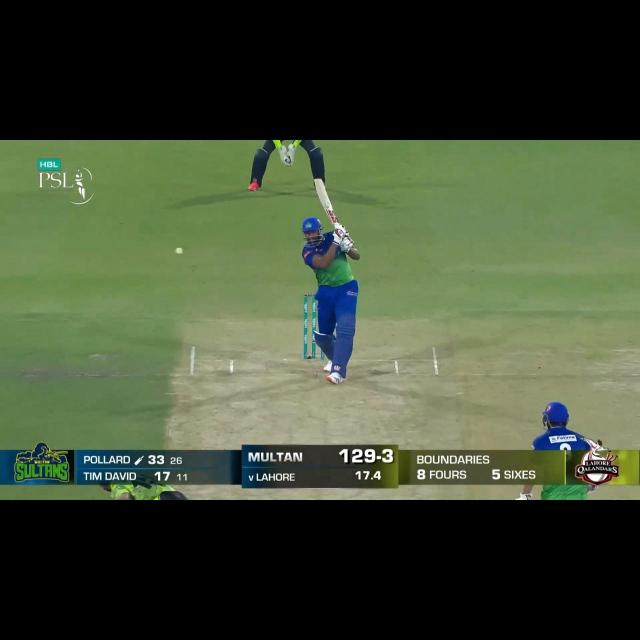bat: (312, 178, 341, 223)
toe: (312, 179, 326, 188)
